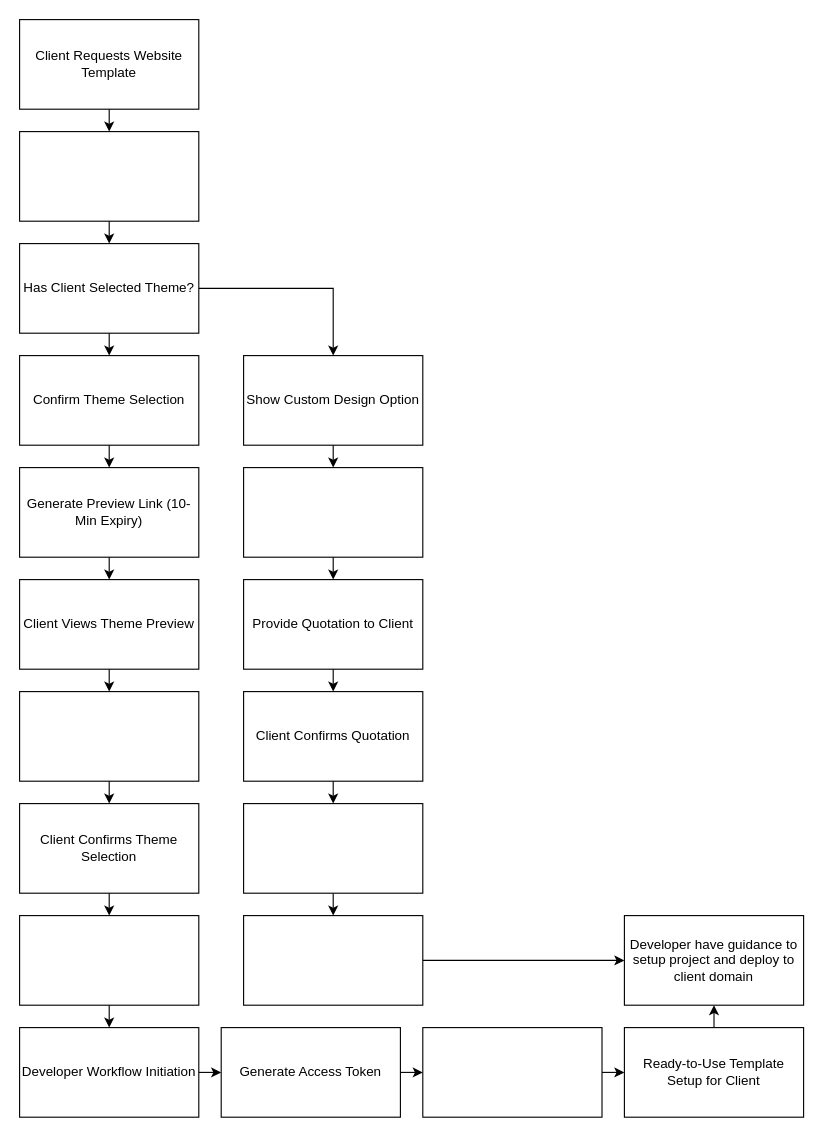
Some shapes in this 823 by 1137 pixel diagram are drawn without their labels. The shapes that lost their labels are listed below. From the top down, each one's centre as x and y in pixels, then its label:
At point 108,175: "Show Available Themes to Client".
At point 332,511: "Gather Design Requirements".
At point 108,735: "Does Client Confirm Theme?".
At point 332,847: "Proceed with Custom Development".
At point 108,959: "Confirmation Popup - Are You Sure?".
At point 332,959: "NO, Preview will be available unitill it deploy on any custom domain".
At point 512,1071: "Embed Token in Template".
